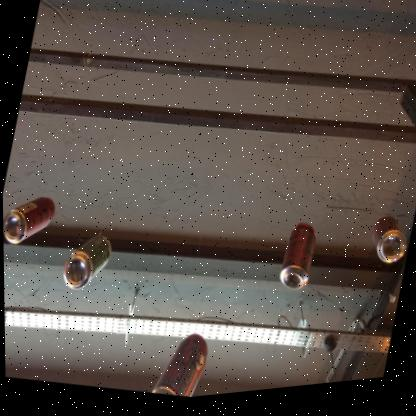Metal: (149, 336, 205, 400), (61, 237, 109, 290), (278, 228, 314, 294), (3, 196, 53, 243), (370, 223, 404, 270)
